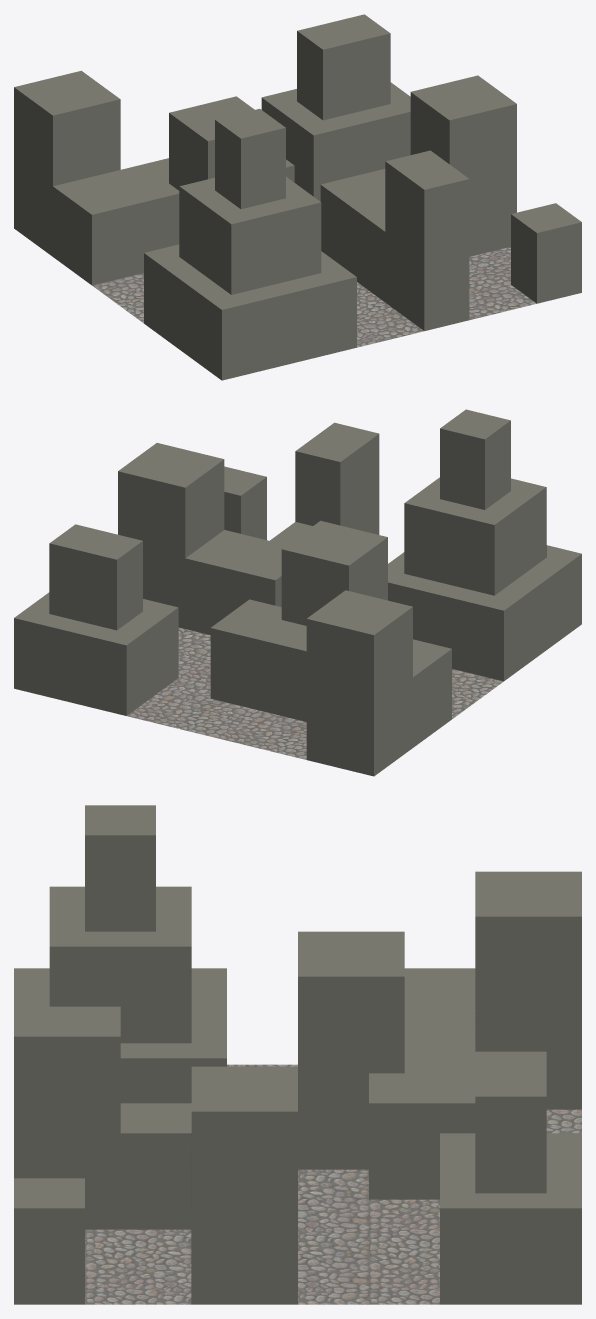
File: tile4.fbx
The picture shows the model from 3 angles, top to bottom: view 1: azimuth 30°, elevation 25°; view 2: azimuth 150°, elevation 25°; view 3: azimuth 270°, elevation 25°; orthographic projection. The views are drawn at different scales.
Visible parts, largest first — view 1: Tile2; view 2: Tile2; view 3: Tile2.
Boxes of the visible parts, x1,y1,x2,y2 form: Tile2: (14, 14, 581, 380); Tile2: (14, 409, 581, 776); Tile2: (14, 805, 581, 1304).
Bounding box in the file's own units: 1600 × 900 × 1600.
